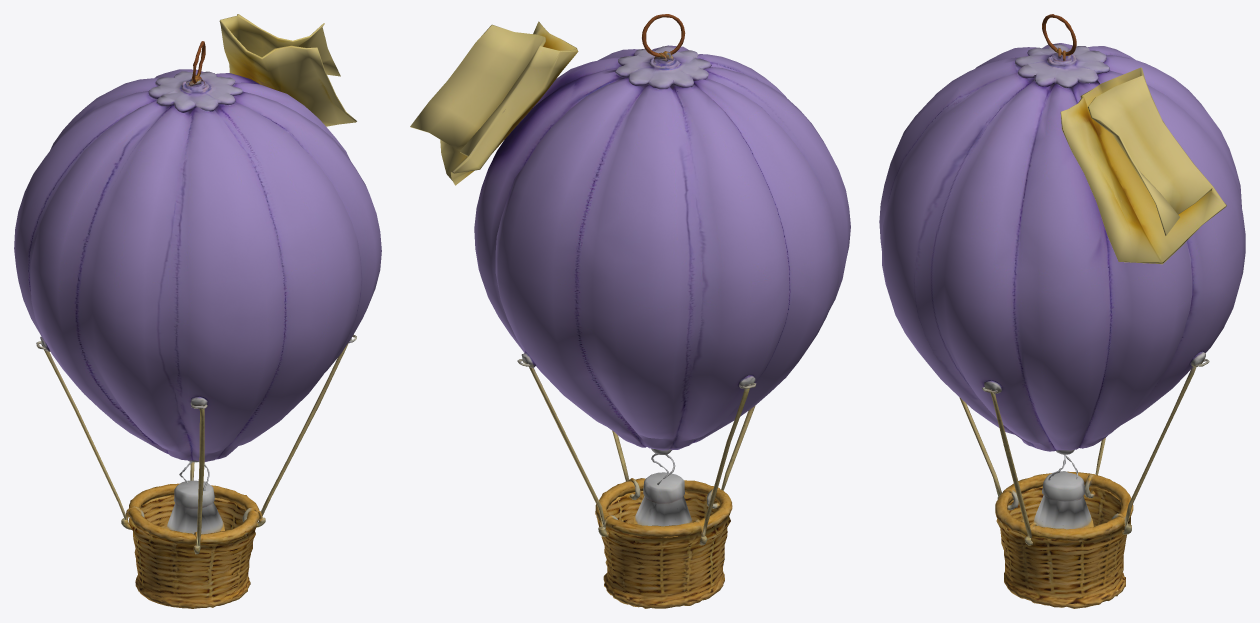
The model's file is r33-airballoon.glb.
3 renders of one model, left to right at view 1: azimuth 30°, elevation 25°; view 2: azimuth 150°, elevation 25°; view 3: azimuth 270°, elevation 25°, orthographic. The views are drawn at different scales.
Visible parts, largest first — view 1: tripo_node_cb635210-0e69-4a6e-ab5a-455ef637030a; view 2: tripo_node_cb635210-0e69-4a6e-ab5a-455ef637030a; view 3: tripo_node_cb635210-0e69-4a6e-ab5a-455ef637030a.
Boxes of the visible parts, box(x1,y1,x2,y2) form: tripo_node_cb635210-0e69-4a6e-ab5a-455ef637030a: box(14, 14, 381, 608); tripo_node_cb635210-0e69-4a6e-ab5a-455ef637030a: box(410, 14, 850, 608); tripo_node_cb635210-0e69-4a6e-ab5a-455ef637030a: box(879, 14, 1245, 608).
Bounding box in the file's own units: 0.6738 × 0.998 × 0.5801.
Materials: 1 (1 with a texture image).
